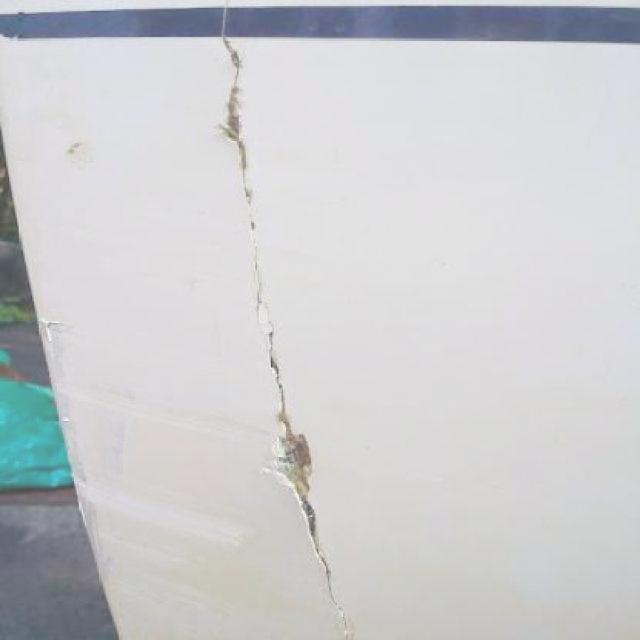crack: (214, 24, 361, 640)
